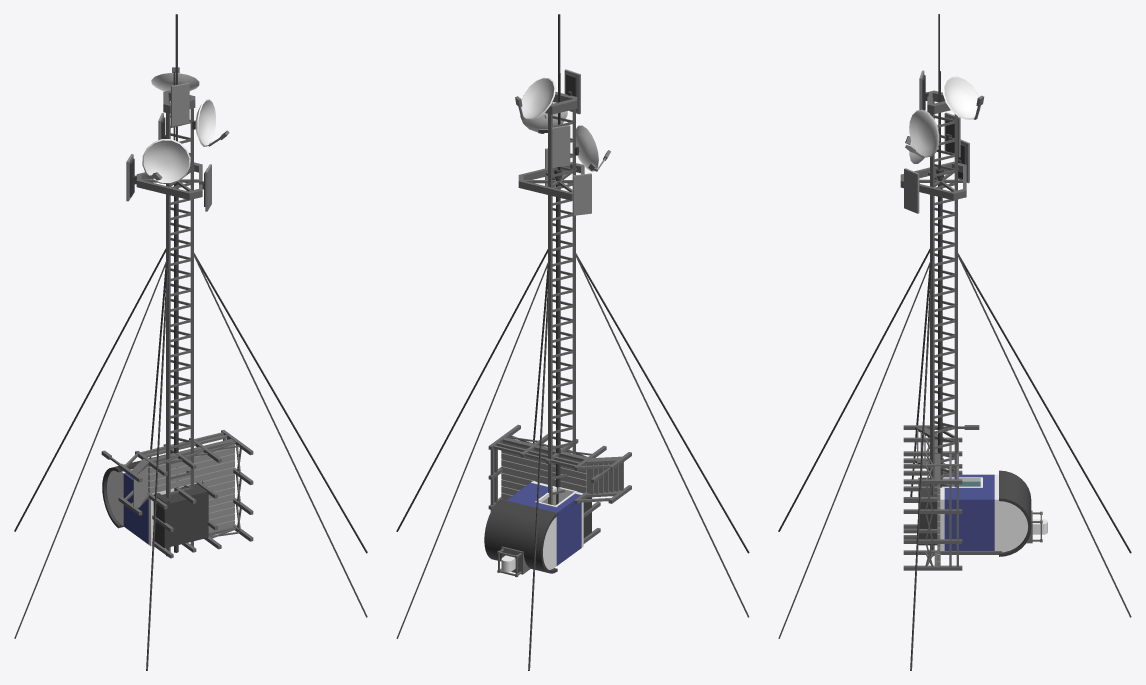
File: BLOCKS Models.fbx
The picture shows the model from 3 angles, left to right: view 1: azimuth 30°, elevation 25°; view 2: azimuth 150°, elevation 25°; view 3: azimuth 270°, elevation 25°; orthographic projection.
Visible parts, largest first — view 1: Radio Tower, Mini Lodge; view 2: Radio Tower, Mini Lodge; view 3: Radio Tower, Mini Lodge.
Boxes of the visible parts, x1,y1,x2,y2 form: Radio Tower: (14, 14, 367, 670); Mini Lodge: (101, 430, 253, 558); Radio Tower: (396, 14, 749, 670); Mini Lodge: (484, 424, 631, 577); Radio Tower: (778, 14, 1131, 670); Mini Lodge: (903, 425, 1047, 570).
Size of the model in its own units: 5566 by 8595 by 4821.
